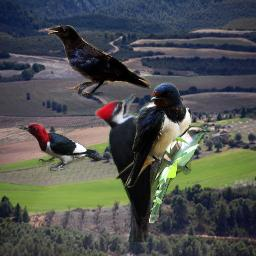Crow: (48, 25, 151, 96)
Cuckoo: (148, 126, 212, 223)
Swallow: (115, 82, 192, 191)
Woodpecker: (93, 93, 177, 242), (13, 121, 107, 173)
